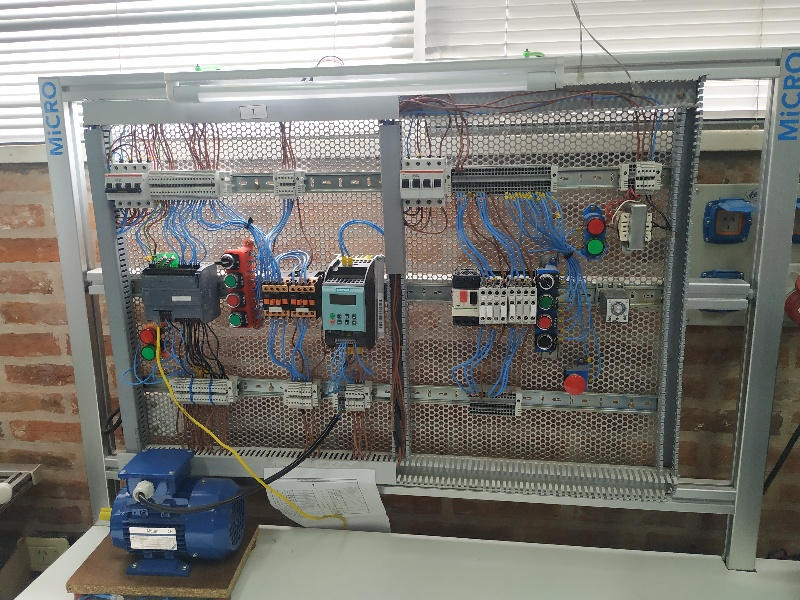Tablero 1: (95, 110, 681, 478)
